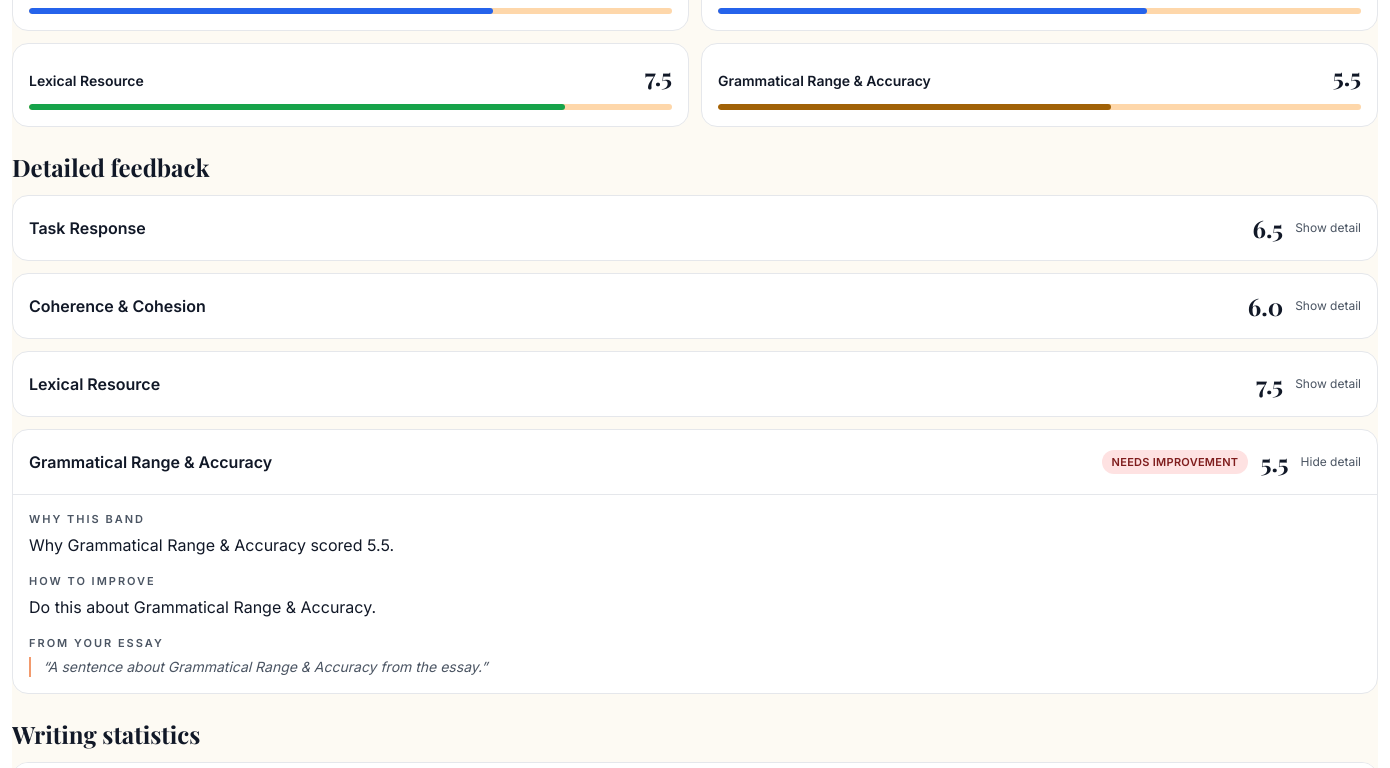
Test: ResultDashboard › lets two criteria be open at once, so they can be compared
(page scrolled)
Click the button "Lexical Resource 7.5 Show detail" at (95, 384), box top-left (13, 352), bottom-right (1377, 416)
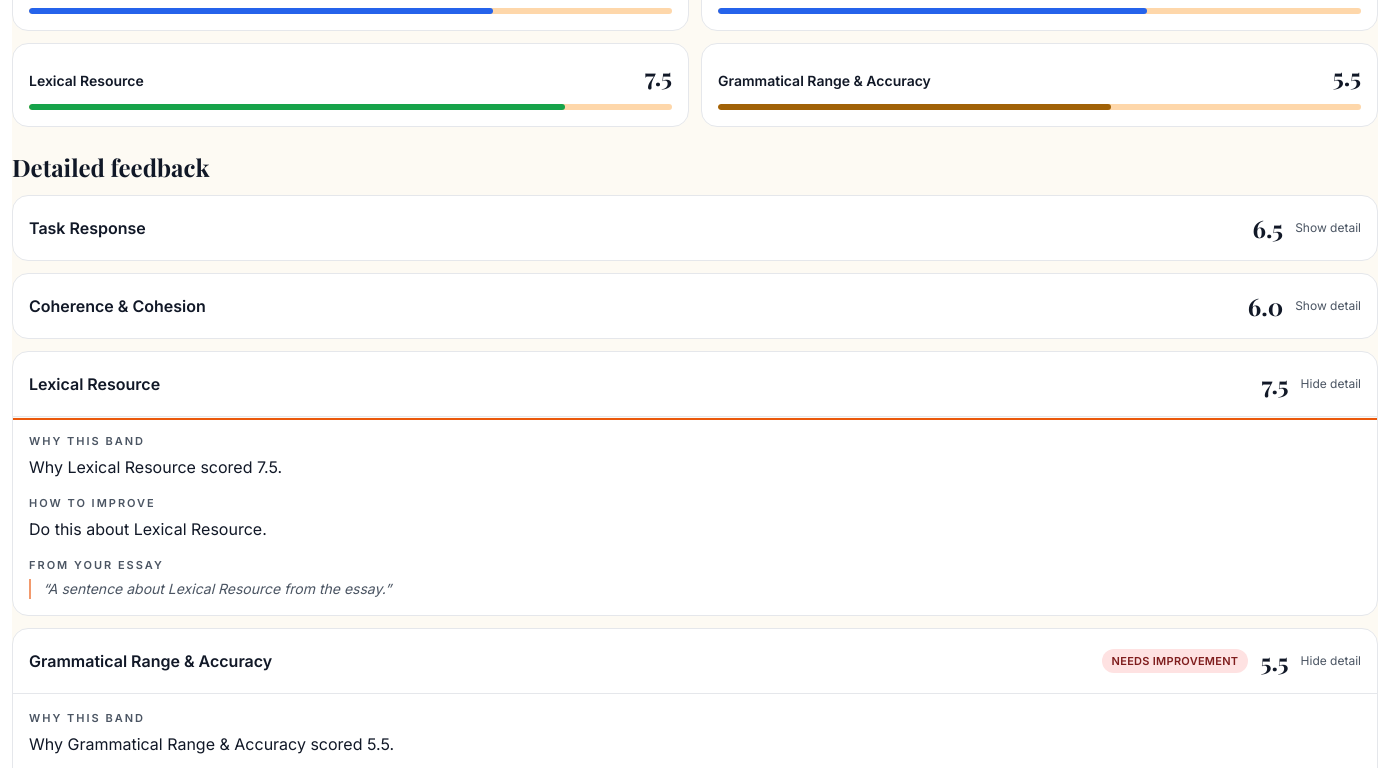
Expected: the text "Why Grammatical Range & Accuracy scored 5.5." is shown, top-left (29, 734), bottom-right (394, 754)
Expected: the text "Why Lexical Resource scored 7.5." is shown, top-left (29, 457), bottom-right (282, 477)
